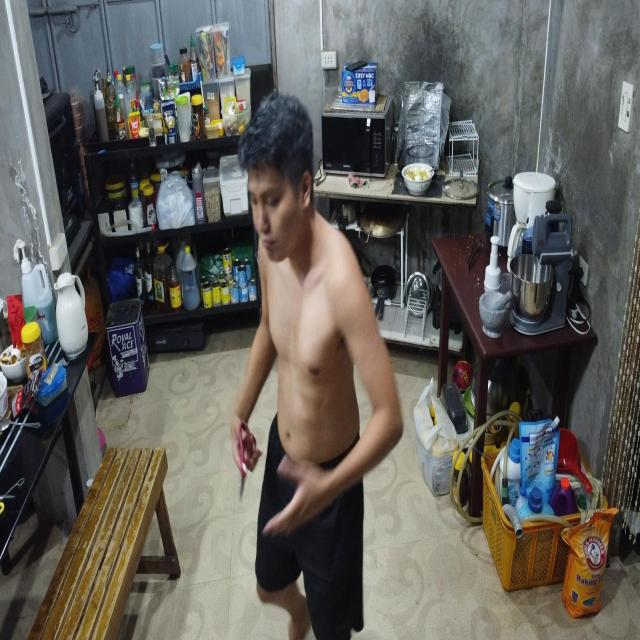scissor: (238, 423, 256, 501)
